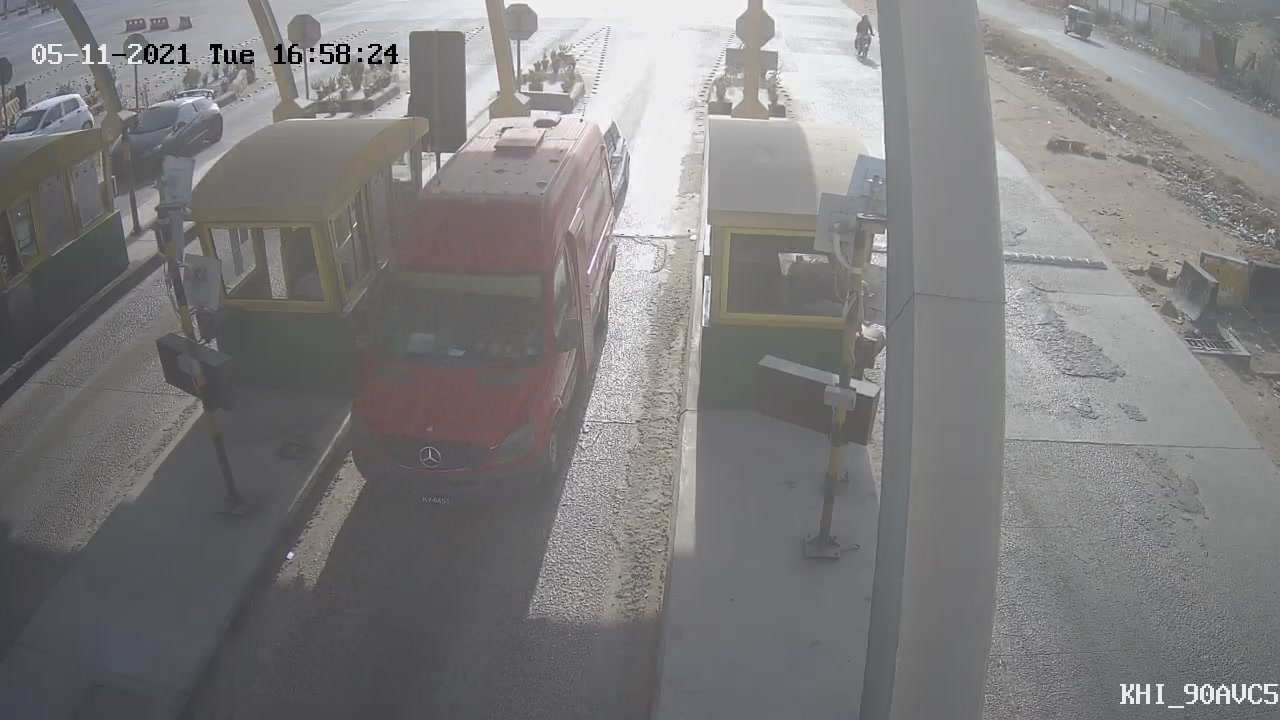F2: (320, 95, 651, 535)
